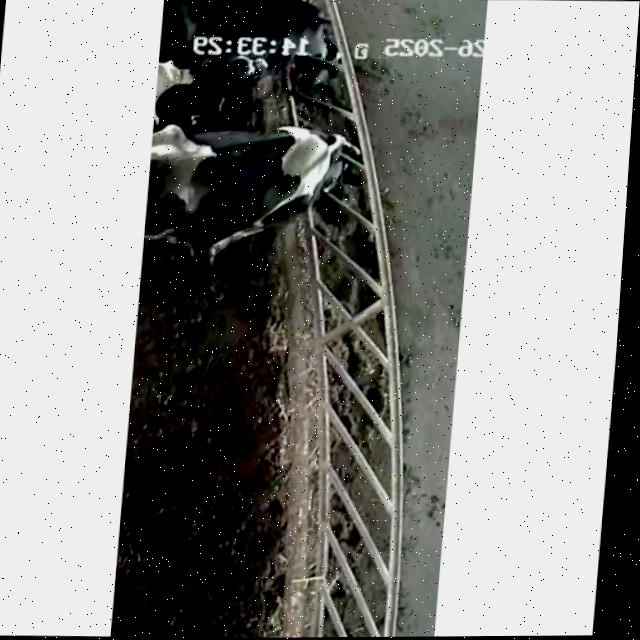eat: (219, 105, 401, 242), (178, 0, 400, 92)
